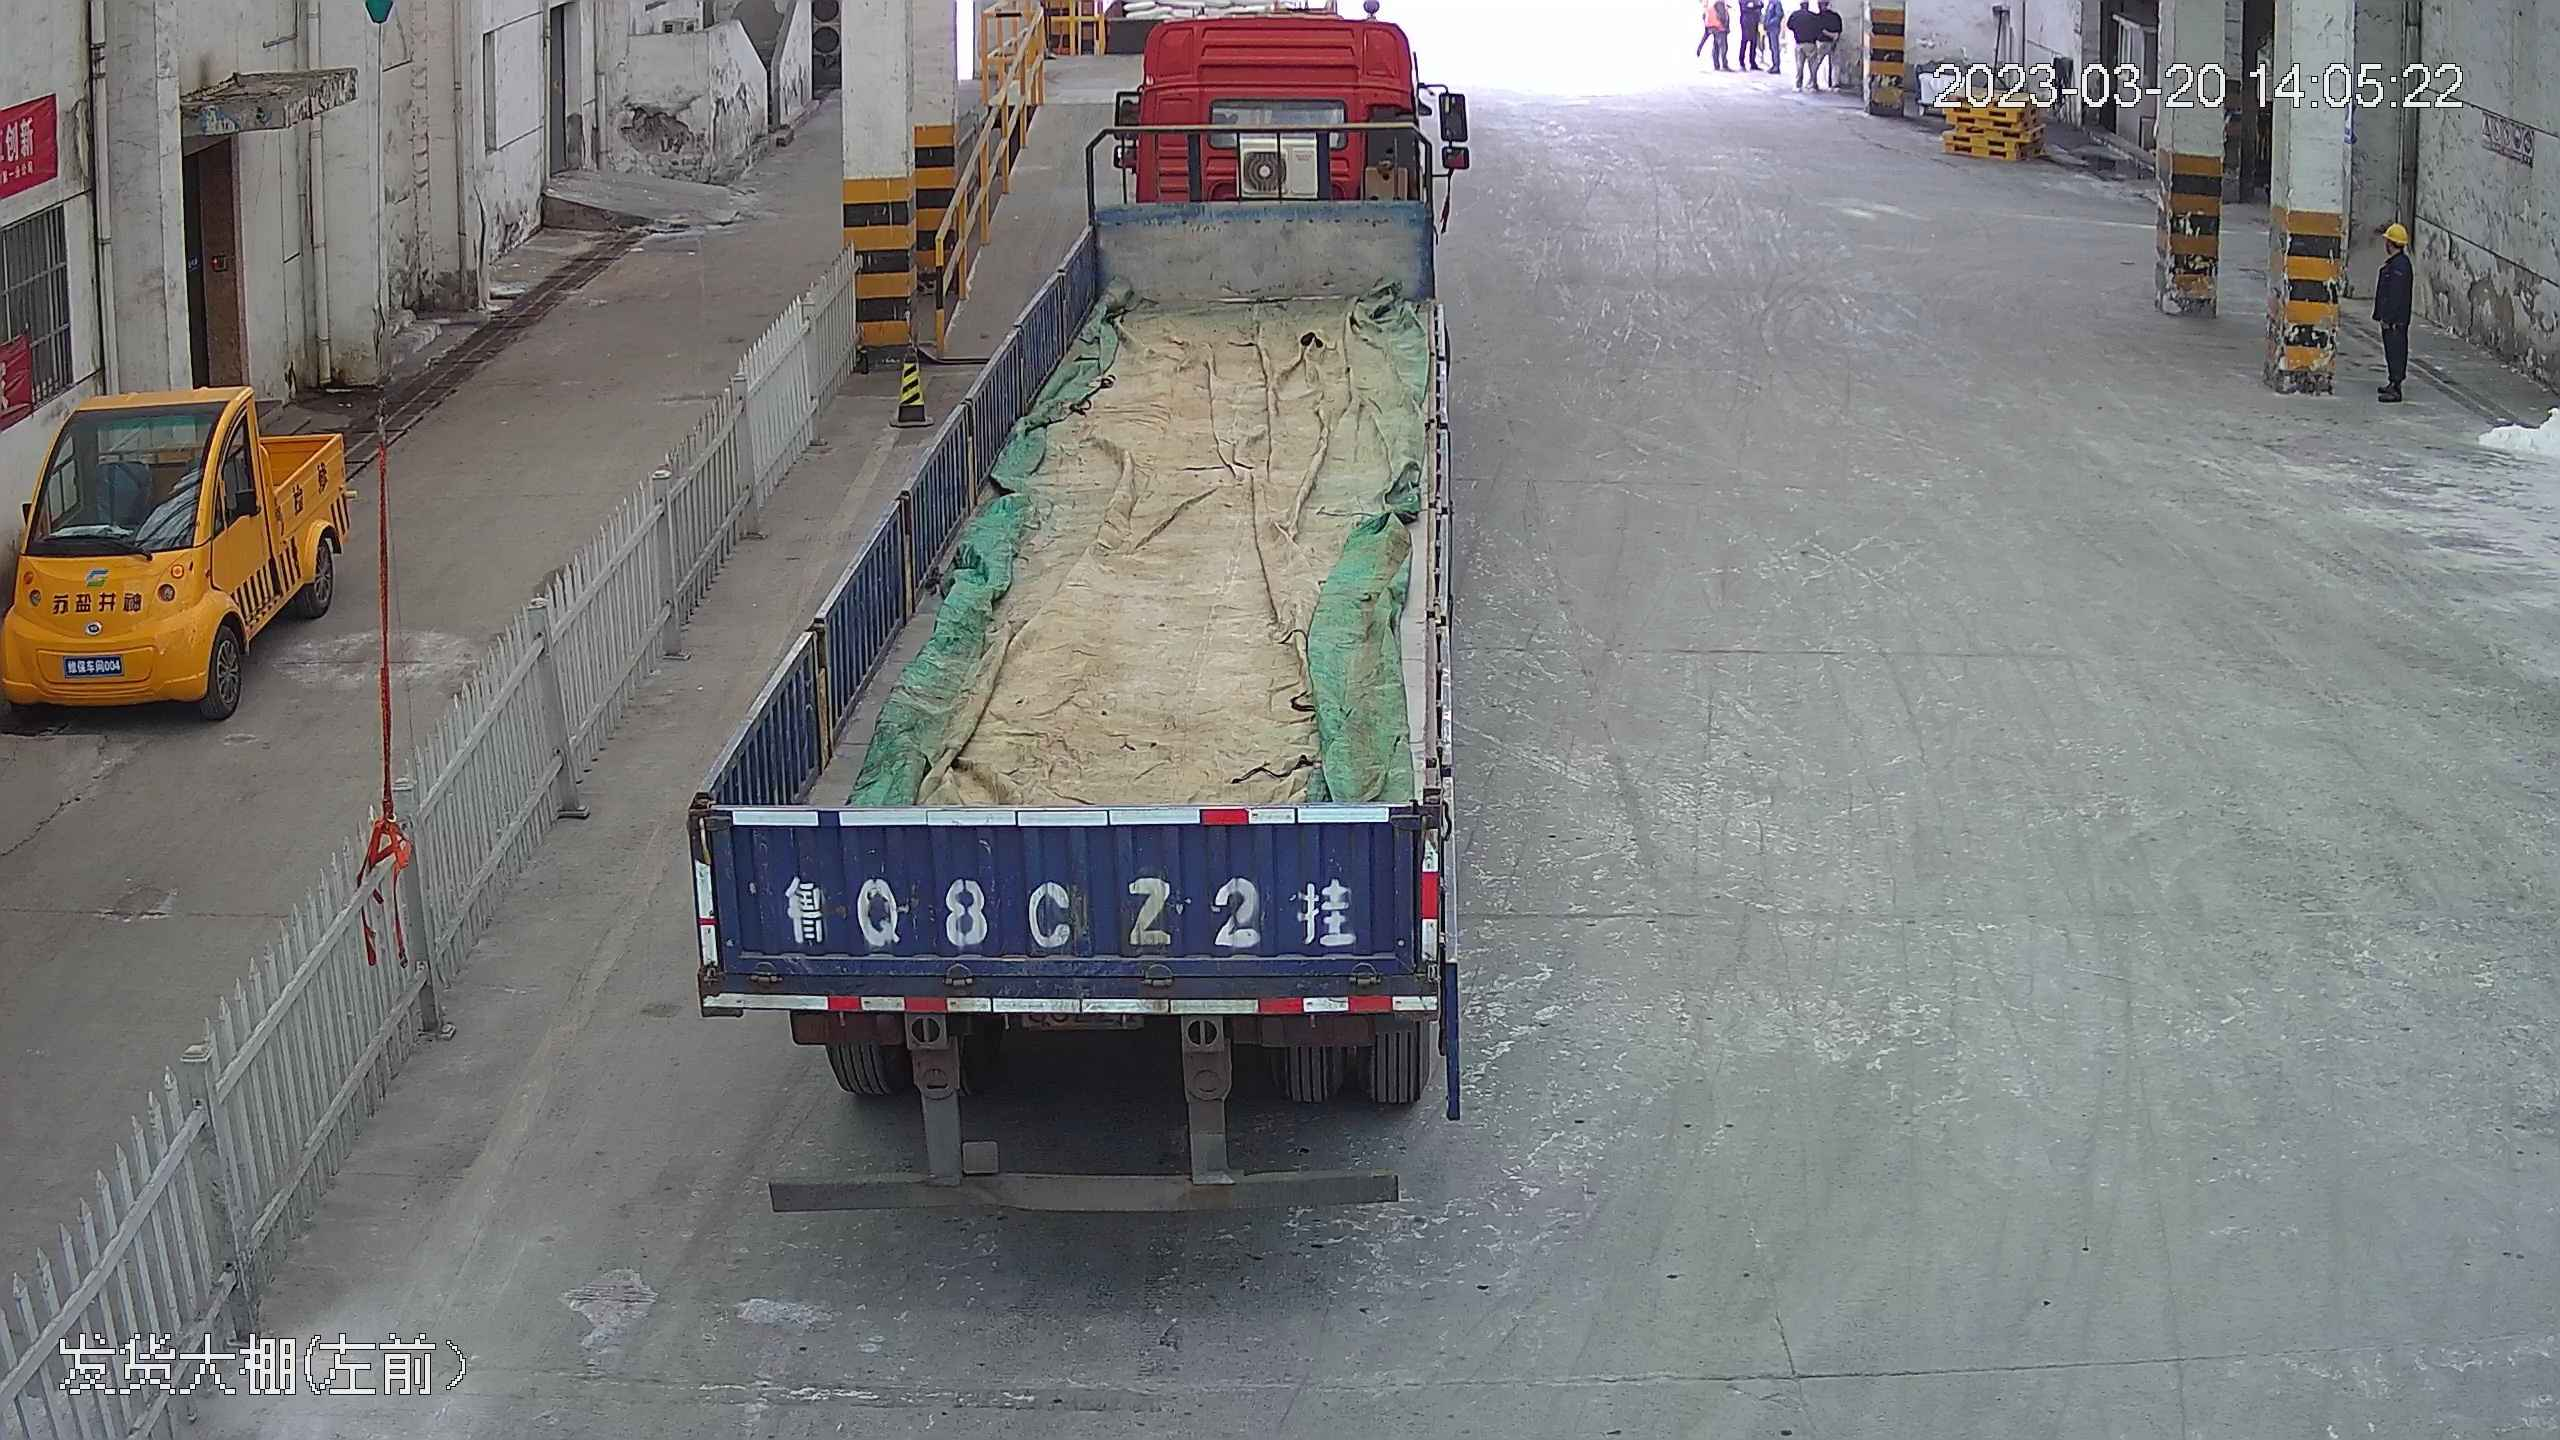head: (2375, 220, 2418, 278)
helmet: (2382, 221, 2411, 246)
people: (2371, 223, 2421, 406), (1791, 1, 1822, 95), (1736, 1, 1764, 74), (1707, 1, 1734, 75), (1764, 1, 1784, 78)
truck: (694, 1, 1478, 1213)
